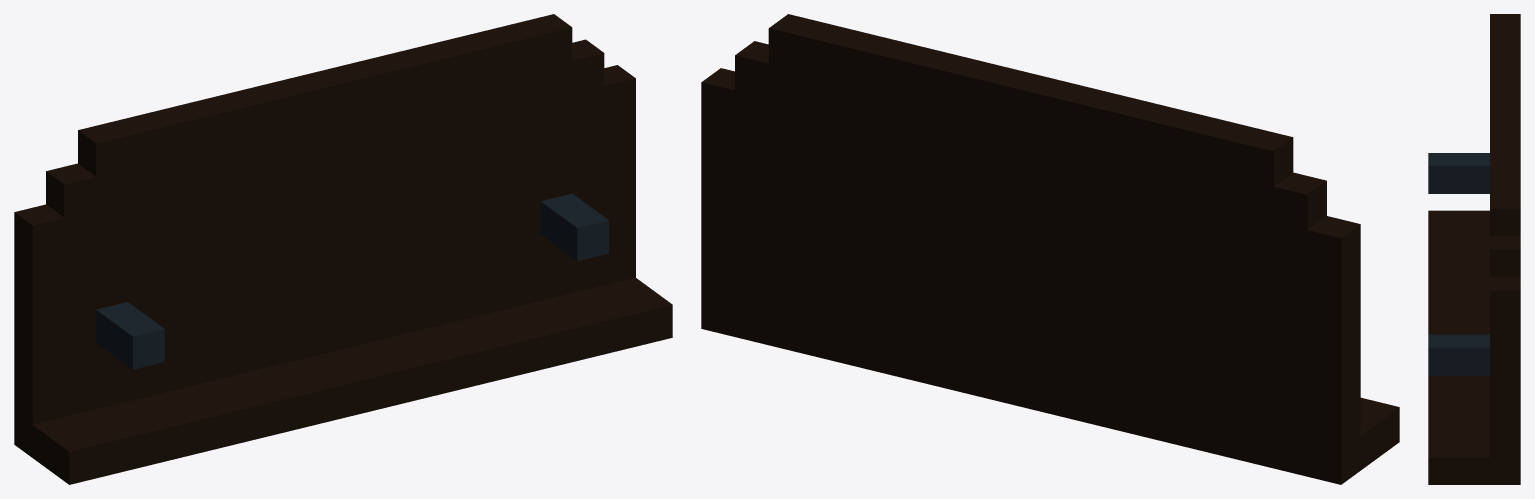
Rendered from sword_rack_empty.obj.
3 views of the same model, side by side, from view 1: azimuth 30°, elevation 25°; view 2: azimuth 150°, elevation 25°; view 3: azimuth 270°, elevation 25° (orthographic). The views are drawn at different scales.
Bounding box in the file's own units: 1.9 × 0.9 × 0.3.
Materials: 1 (1 with a texture image).
